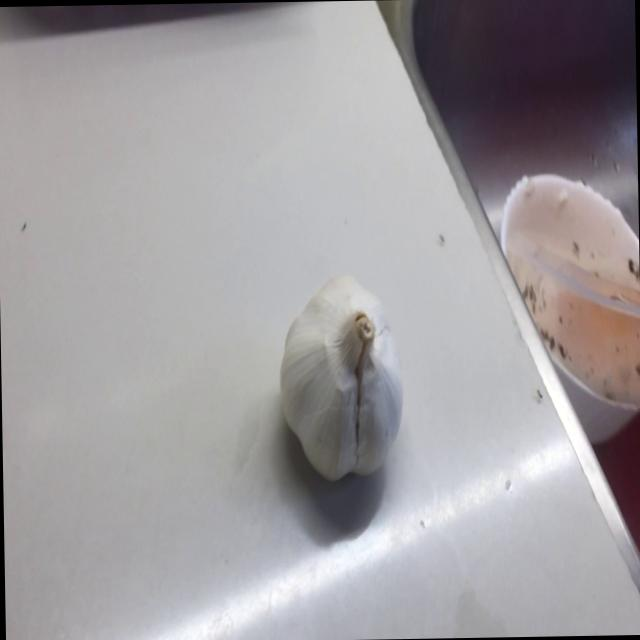garlic: (274, 270, 406, 484)
